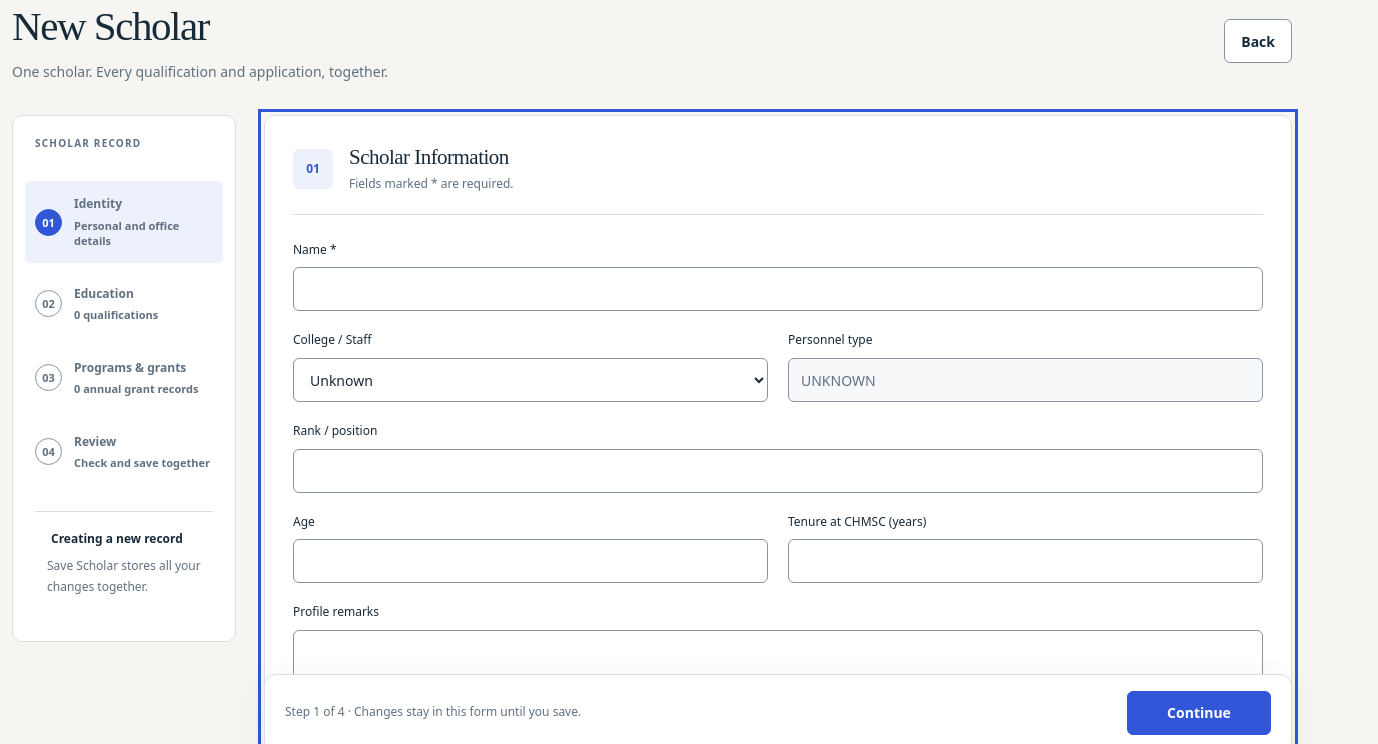
it: new scholars retain the explicit Review step before their first save
Type "New scholar" into the field labelled "Name *" at [778, 289], box [293,267,1263,311]
(page scrolled)
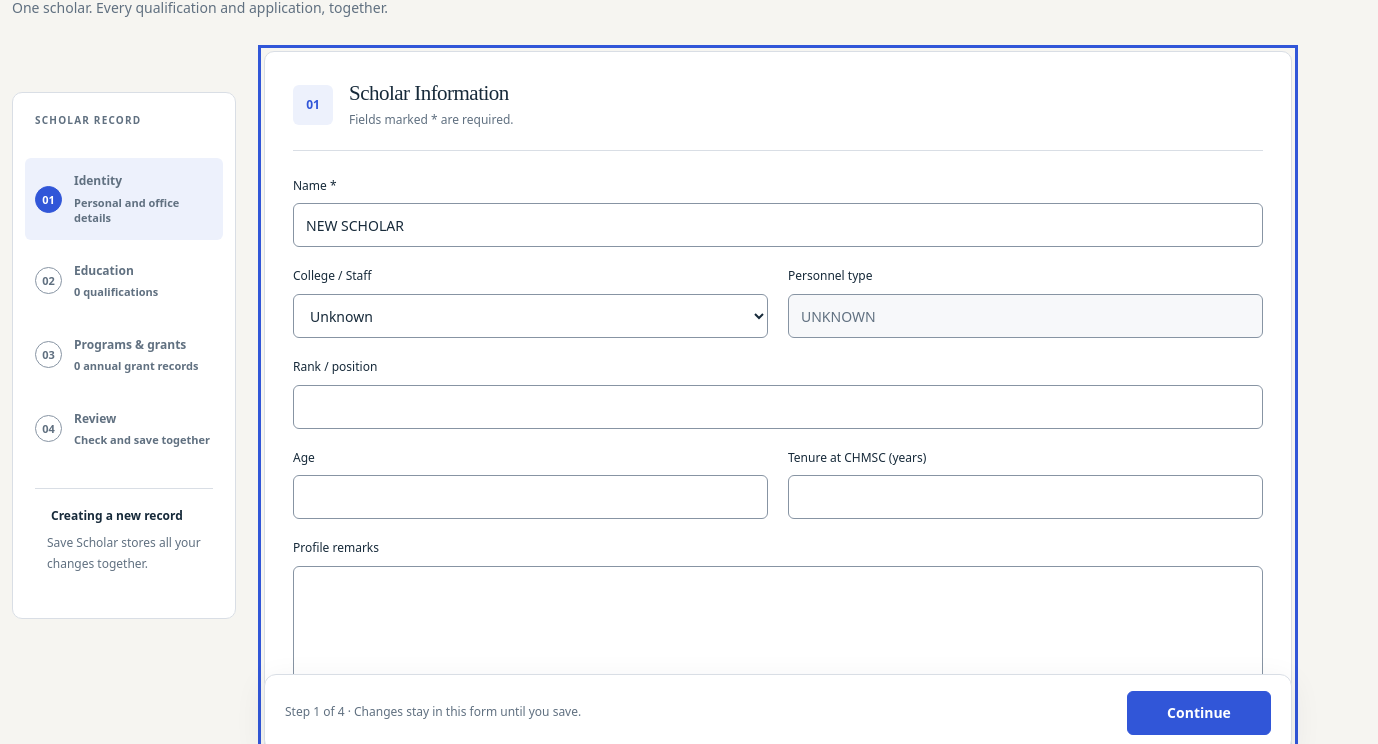
Submit the form named "Name *"
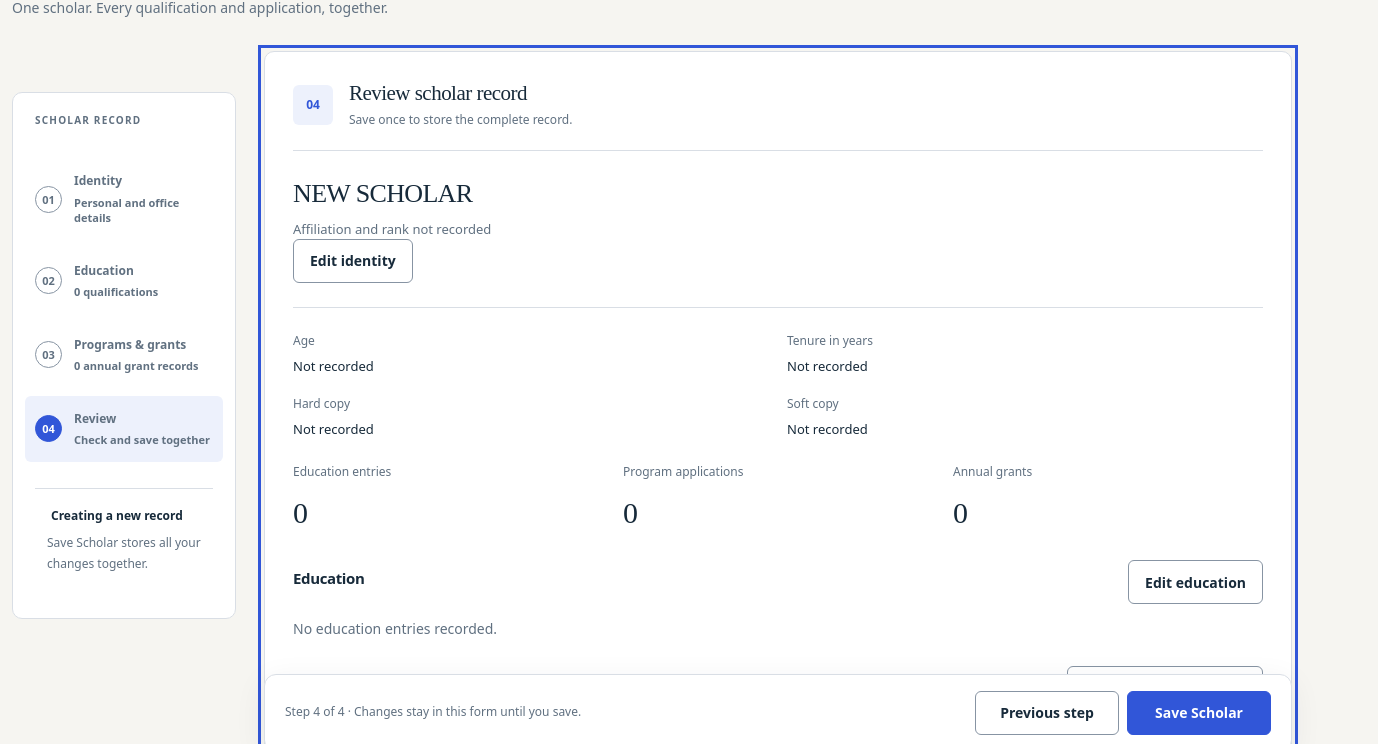
Expected: the heading "Review scholar record" is shown, [349,81,527,105]
